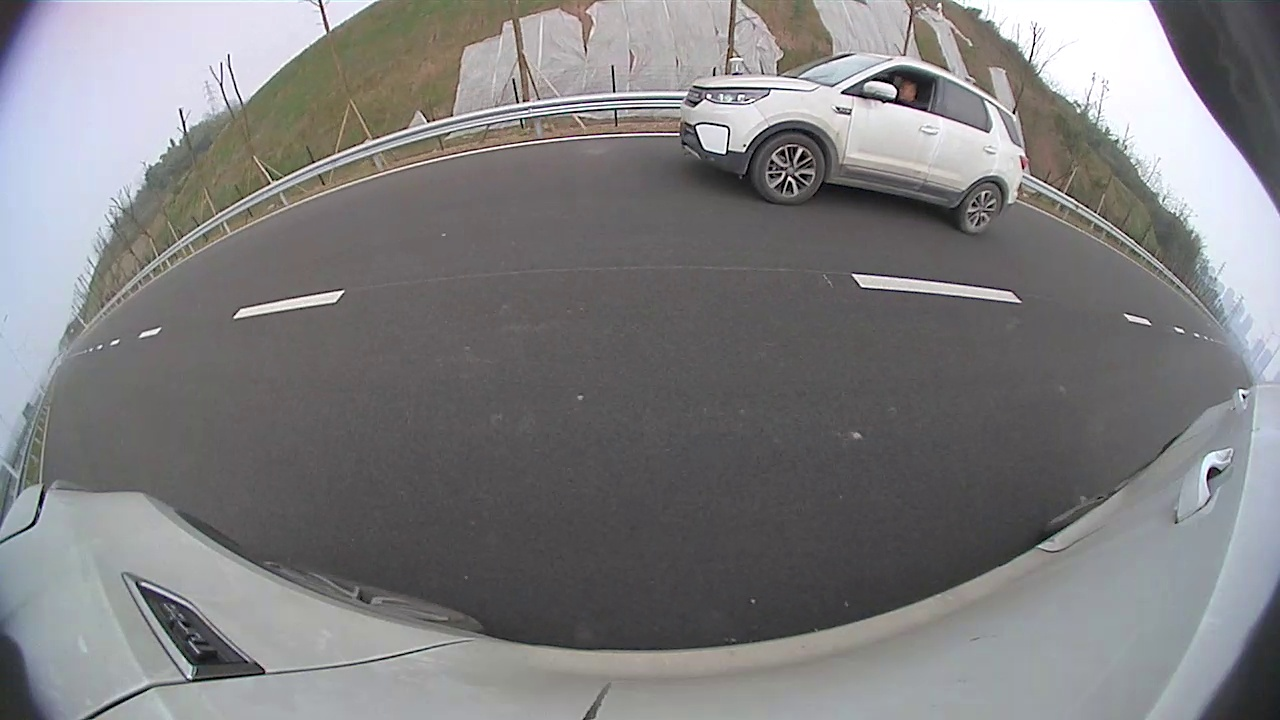car: (681, 53, 1028, 235)
front: (753, 131, 826, 206)
rear: (959, 181, 1003, 236)
